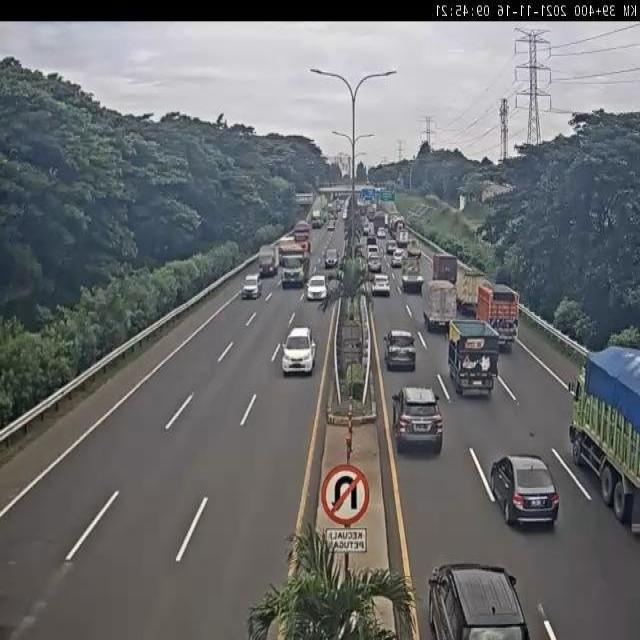Car: (427, 561, 532, 640), (490, 453, 560, 529), (392, 385, 444, 453), (280, 325, 318, 379), (383, 329, 417, 371), (306, 274, 328, 301), (242, 274, 263, 300), (372, 273, 391, 297), (324, 249, 339, 268), (367, 254, 382, 273), (391, 249, 405, 268), (367, 244, 378, 260), (387, 240, 398, 255), (376, 227, 387, 240), (368, 232, 378, 244)
Truck: (568, 344, 640, 535), (447, 317, 501, 396), (476, 281, 520, 350), (421, 280, 459, 334), (278, 239, 309, 288), (456, 269, 486, 315), (401, 255, 426, 292), (433, 253, 458, 287), (258, 245, 278, 278), (292, 219, 312, 249), (387, 211, 406, 240), (406, 238, 424, 260), (374, 209, 386, 235), (396, 228, 409, 248), (311, 210, 324, 229), (367, 204, 377, 221)
